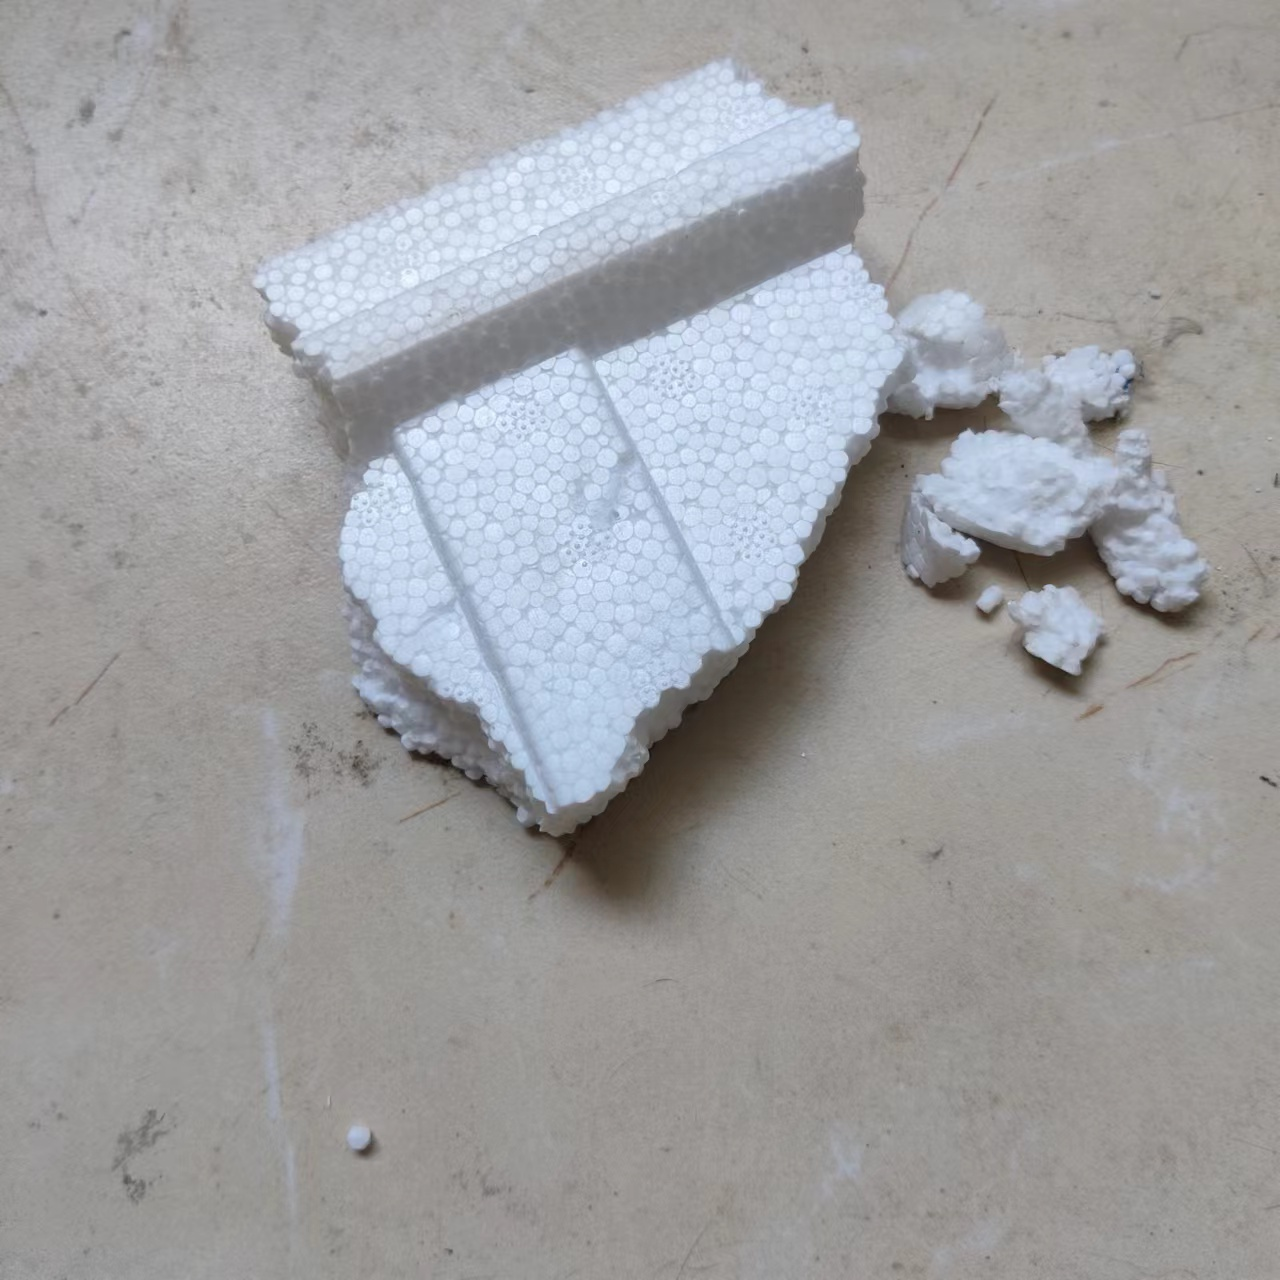5/可回收垃圾/泡沫: (245, 57, 906, 842), (915, 429, 1118, 559), (1092, 430, 1210, 614), (884, 291, 1016, 422), (1006, 583, 1108, 678), (999, 365, 1092, 452), (899, 491, 978, 593), (1044, 343, 1141, 425), (976, 585, 1003, 614)
